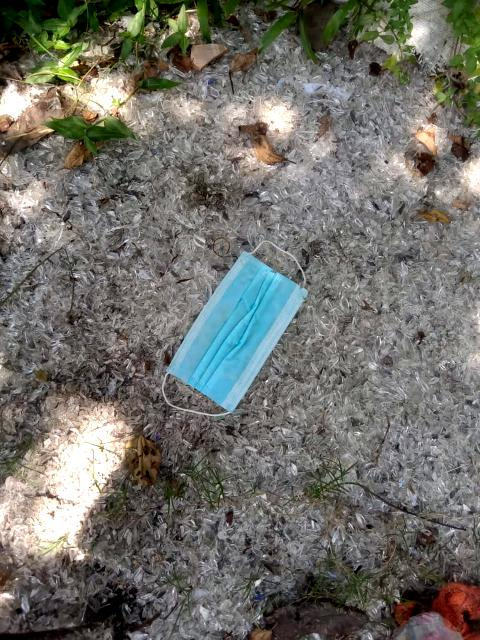mask: (134, 218, 339, 445)
